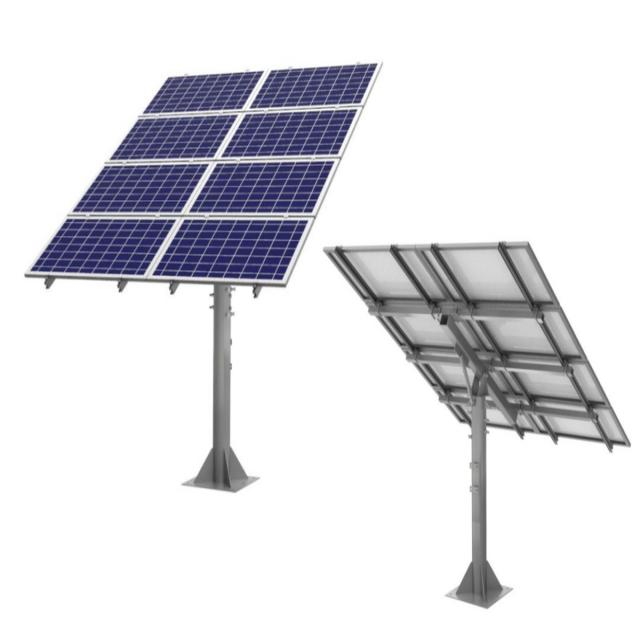clean-solar-panel: (145, 71, 261, 113)
